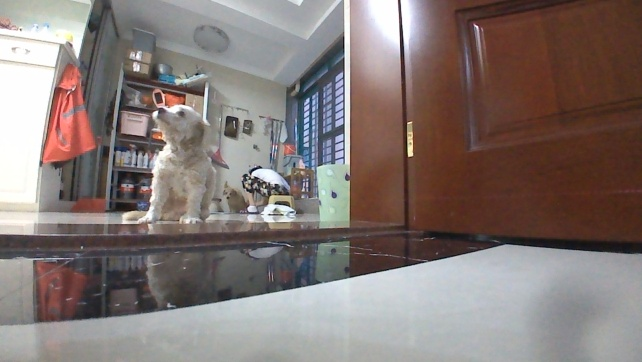dog: (120, 101, 218, 227)
